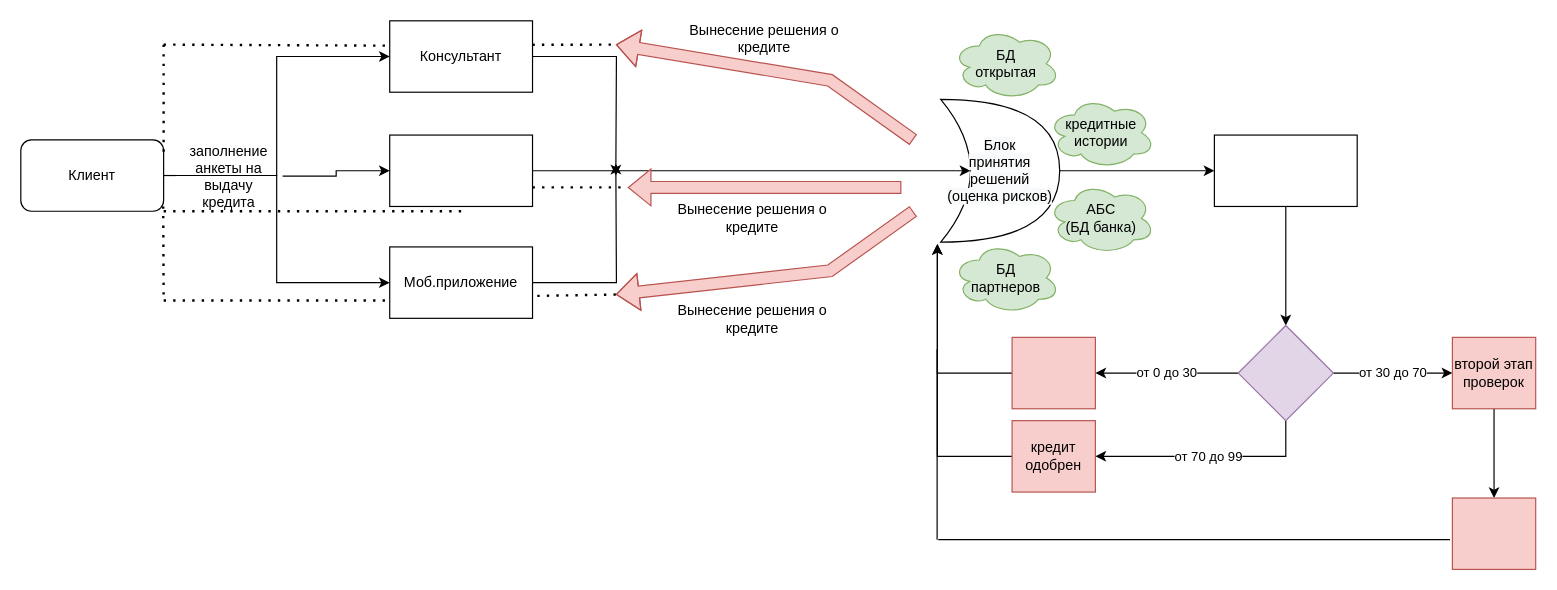
Image size: 1557x590. Some labels were removed from this diagram. The shapes that lost their labels are listed below. From the top down, each one's box as (x1, y1, x2, y2) in pixels, then its label:
(389, 134, 533, 206): веб-сайт
(1213, 134, 1357, 206): Аналитический блок
(1011, 336, 1095, 409): отказ в кредите
(1237, 324, 1333, 421): if
(1451, 497, 1536, 569): передача команде аудита
